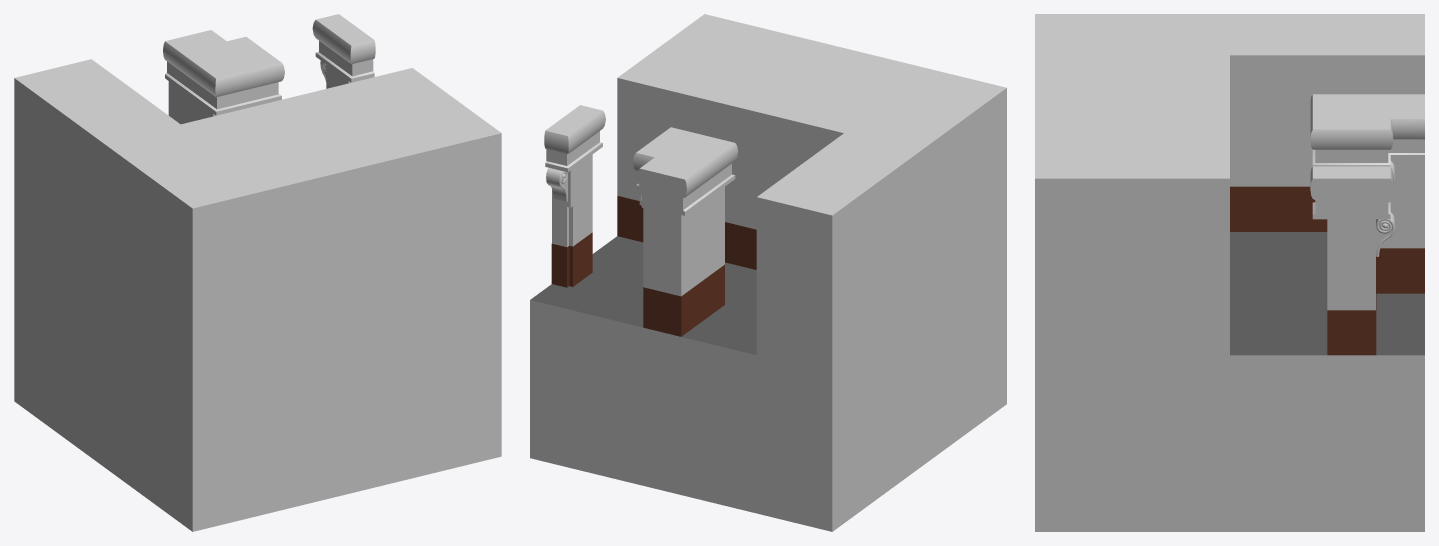
File: House_Base_Side_Back_ccv_var0.fbx
The picture shows the model from 3 angles, left to right: view 1: azimuth 30°, elevation 25°; view 2: azimuth 150°, elevation 25°; view 3: azimuth 270°, elevation 25°; orthographic projection. The views are drawn at different scales.
Visible parts, largest first — view 1: House_Base_Side_Back_ccv_MESH; view 2: House_Base_Side_Back_ccv_MESH; view 3: House_Base_Side_Back_ccv_MESH.
Boxes of the visible parts, box(x1,y1,x2,y2) form: House_Base_Side_Back_ccv_MESH: box(14, 14, 501, 531); House_Base_Side_Back_ccv_MESH: box(530, 14, 1006, 531); House_Base_Side_Back_ccv_MESH: box(1035, 14, 1424, 531).
Bounding box in the file's own units: 4 × 4 × 4.
